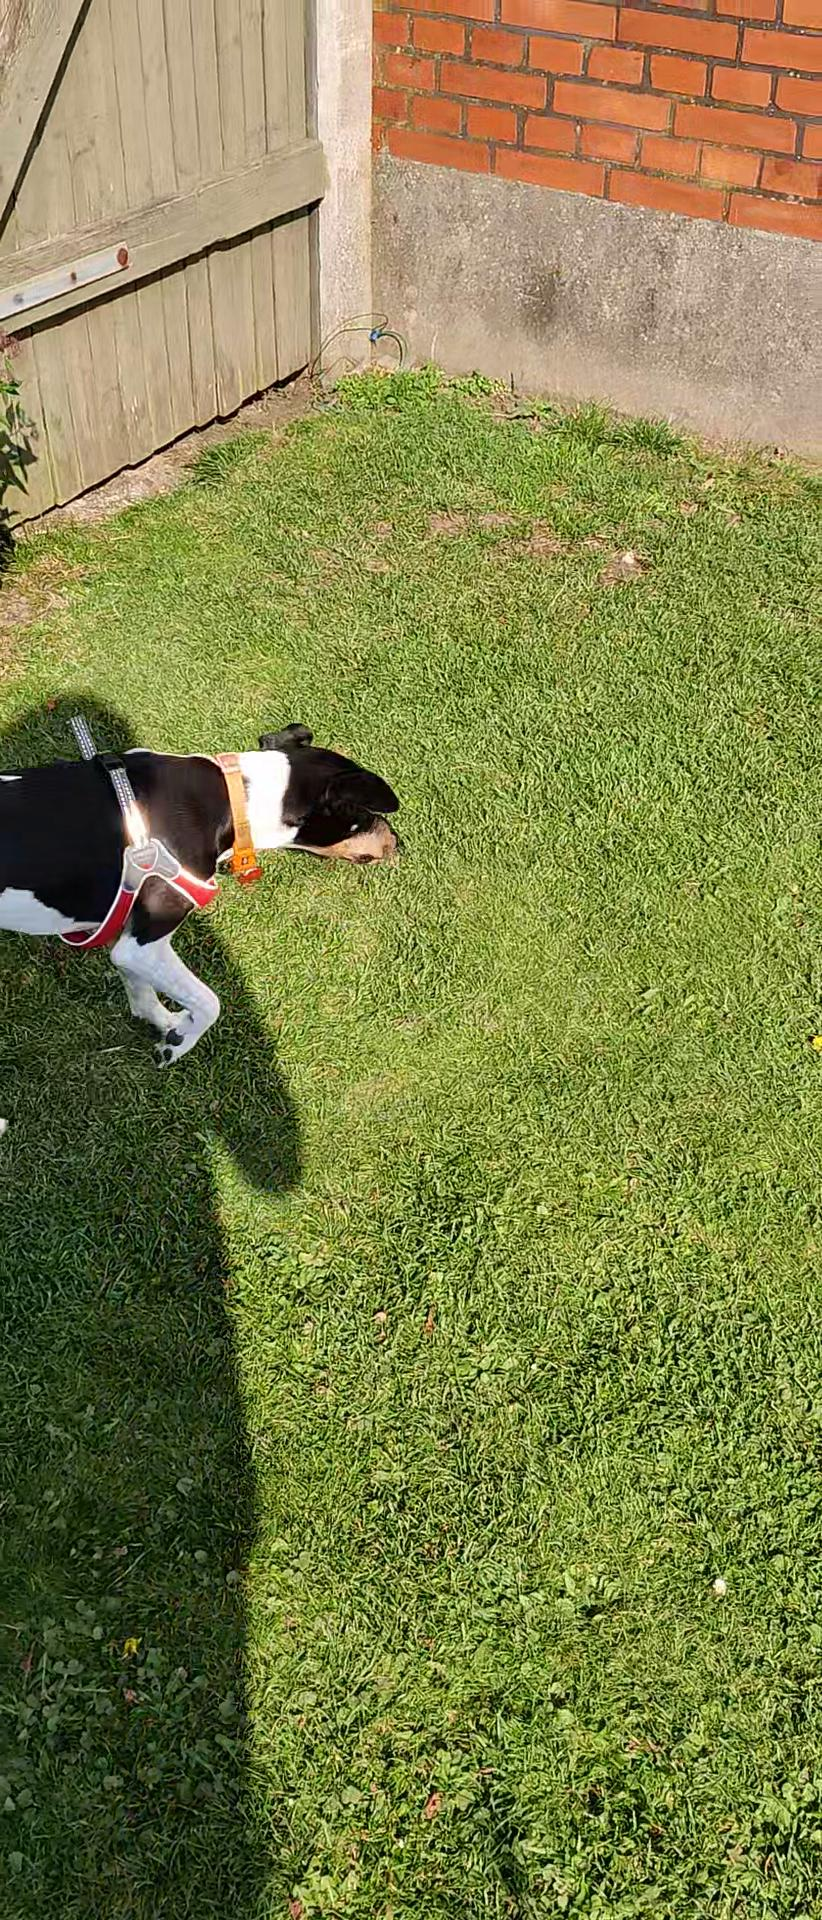Dog: (0, 718, 418, 1139)
